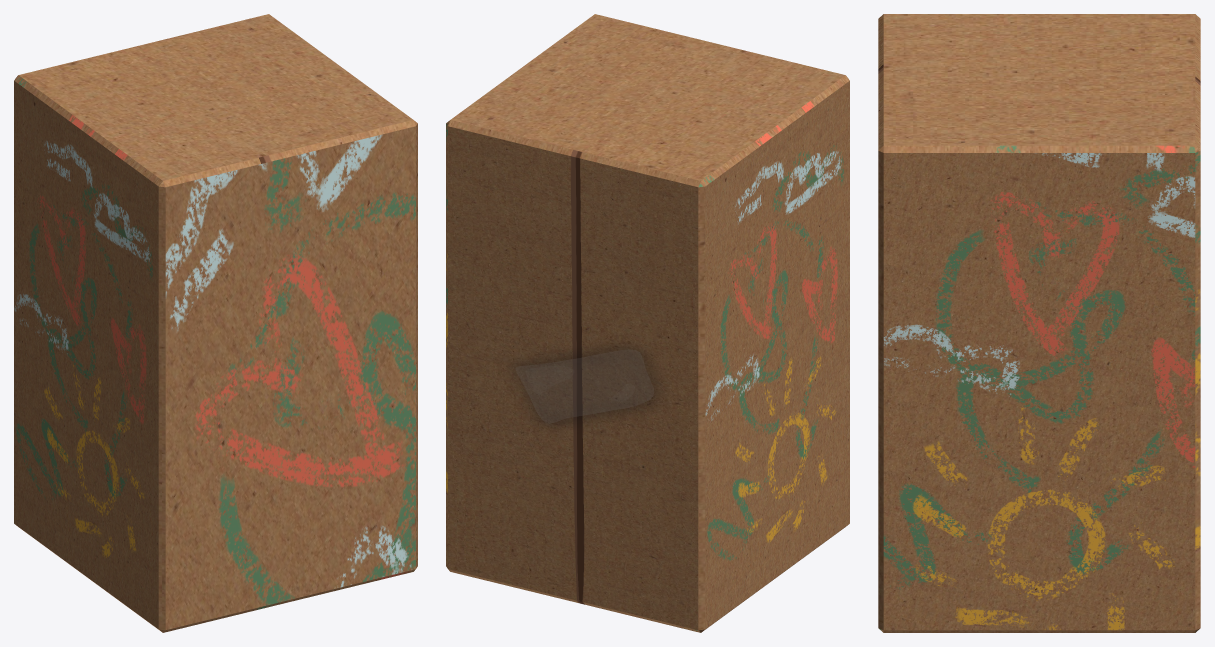
Rendered from Box_Ver1.fbx.
3 renders of one model, left to right at view 1: azimuth 30°, elevation 25°; view 2: azimuth 150°, elevation 25°; view 3: azimuth 270°, elevation 25°, orthographic. The views are drawn at different scales.
Visible parts, largest first — view 1: Cube; view 2: Cube; view 3: Cube.
Part boxes in pixels (left/top/right/bottom): Cube: left=14, top=14, right=417, bottom=632; Cube: left=446, top=14, right=849, bottom=632; Cube: left=878, top=14, right=1200, bottom=632.
Size of the model in its own units: 300 by 500 by 300.
